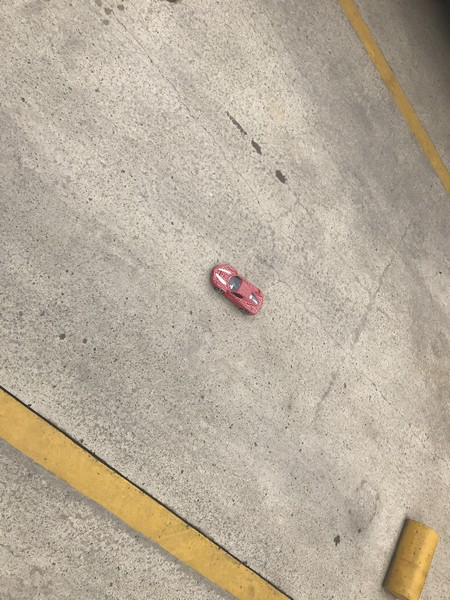RC: (209, 262, 266, 317)
